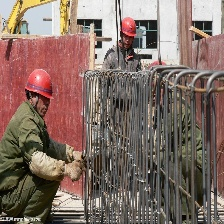helmet: (23, 70, 56, 101), (121, 17, 139, 37)
no-vest: (3, 107, 52, 215)
person: (0, 67, 61, 219)
